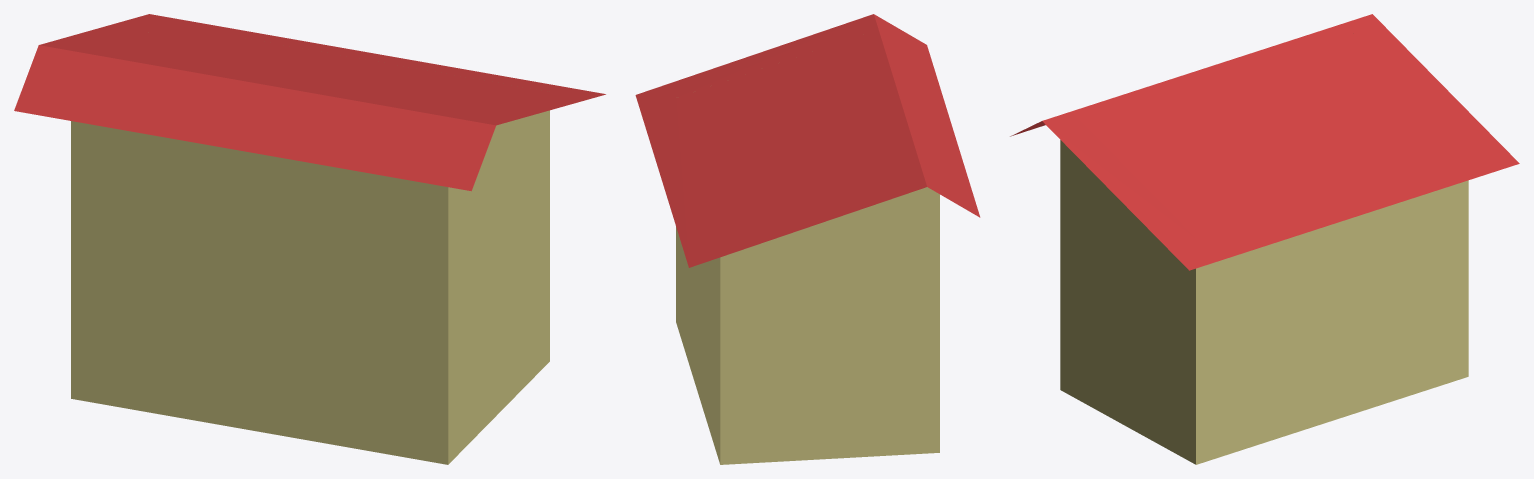
3 views of the same model, side by side, from view 1: azimuth 30°, elevation 25°; view 2: azimuth 150°, elevation 25°; view 3: azimuth 270°, elevation 25° (orthographic). The views are drawn at different scales.
Size of the model in its own units: 10.02 by 10.48 by 6.44.
